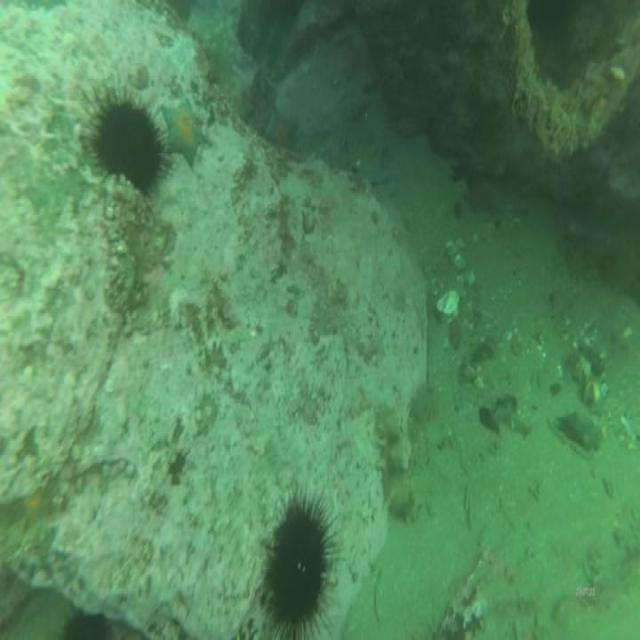echinus: (261, 498, 331, 634), (91, 94, 161, 202)
holothurian: (373, 401, 417, 525)
starfish: (161, 93, 203, 166)
